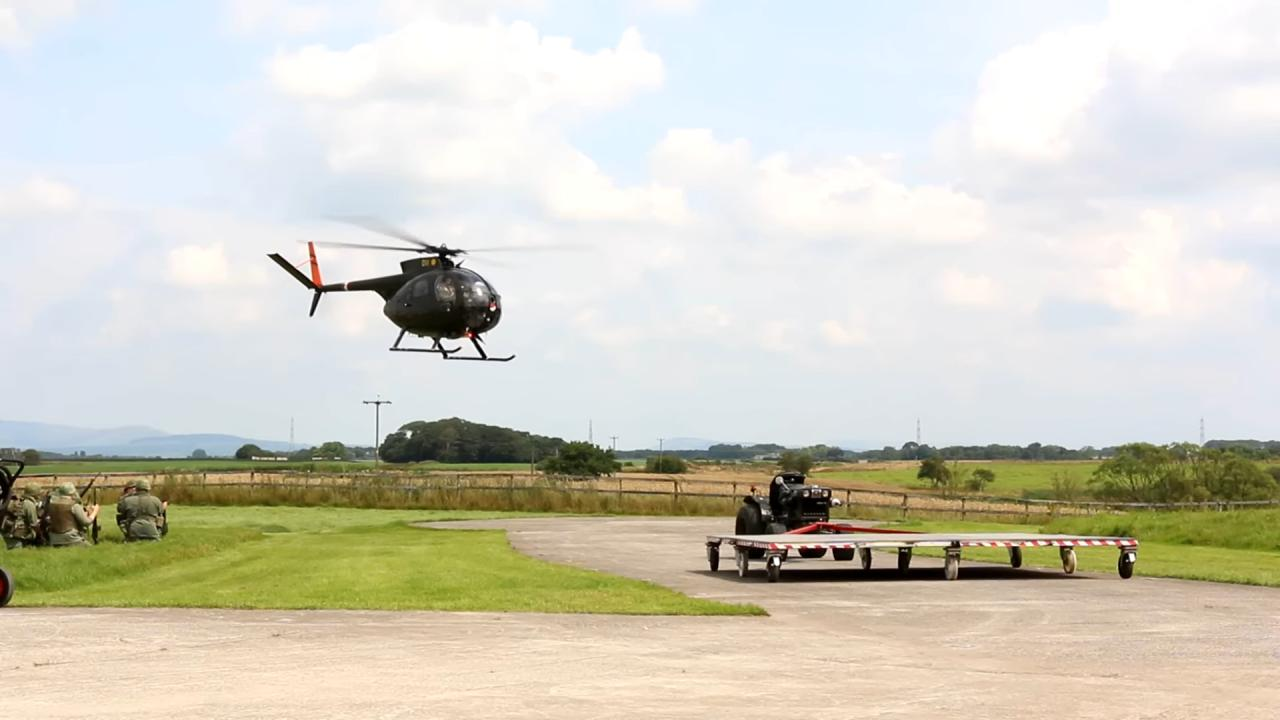Helicopter: (246, 169, 615, 390)
